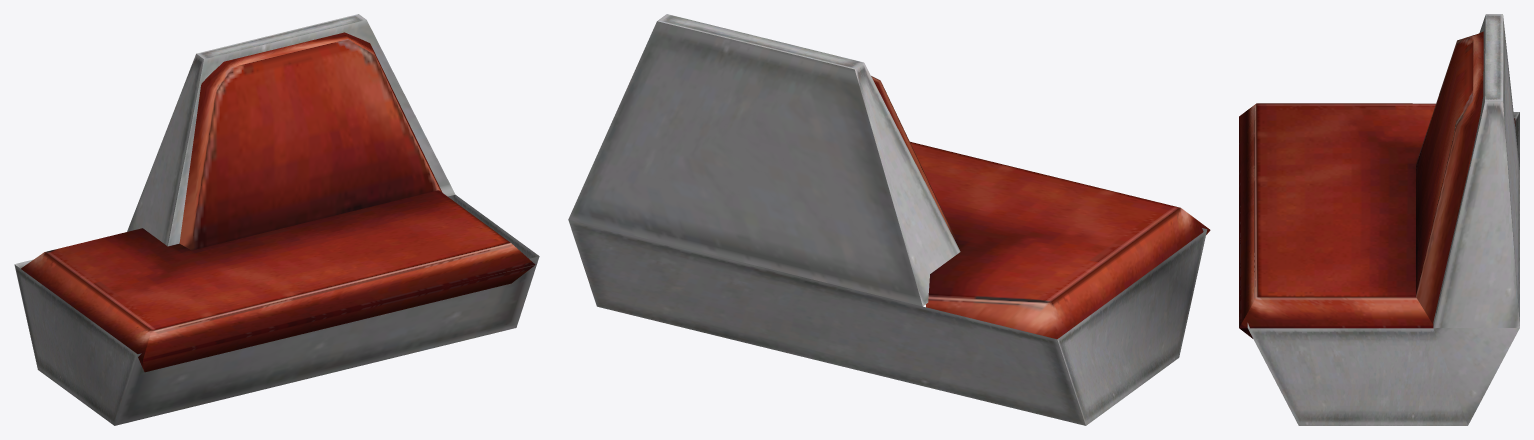
Rendered from frn_all_plan_love_seat_s01_l1.fbx.
3 renders of one model, left to right at view 1: azimuth 30°, elevation 25°; view 2: azimuth 150°, elevation 25°; view 3: azimuth 270°, elevation 25°, orthographic. The views are drawn at different scales.
Visible parts, largest first — view 1: mesh_node; view 2: mesh_node; view 3: mesh_node.
Boxes of the visible parts, x1,y1,x2,y2 form: mesh_node: (14,14,539,425); mesh_node: (568,14,1210,425); mesh_node: (1239,14,1519,425).
Bounding box in the file's own units: 1.6 × 1 × 0.8802.
